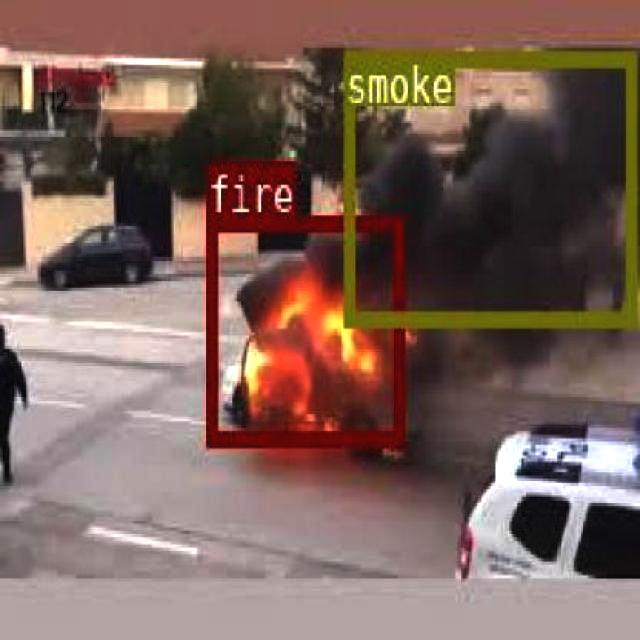fire: (206, 212, 402, 446)
smoke: (343, 50, 634, 322)
